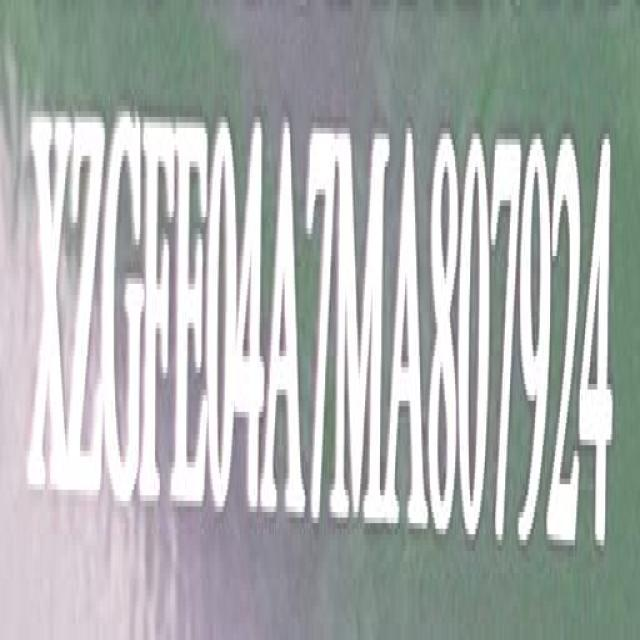0: (458, 130, 496, 548), (205, 112, 235, 530)
2: (548, 131, 582, 554)
4: (222, 115, 266, 527), (580, 132, 616, 565)
7: (300, 118, 339, 536), (492, 134, 521, 571)
8: (423, 125, 463, 545)
9: (516, 128, 553, 554)
A: (263, 107, 304, 530), (388, 122, 429, 539)
E: (176, 107, 207, 526)
F: (139, 102, 176, 522)
G: (103, 107, 144, 520)
M: (335, 118, 393, 534)
X: (31, 101, 74, 515)
Z: (65, 99, 108, 517)
